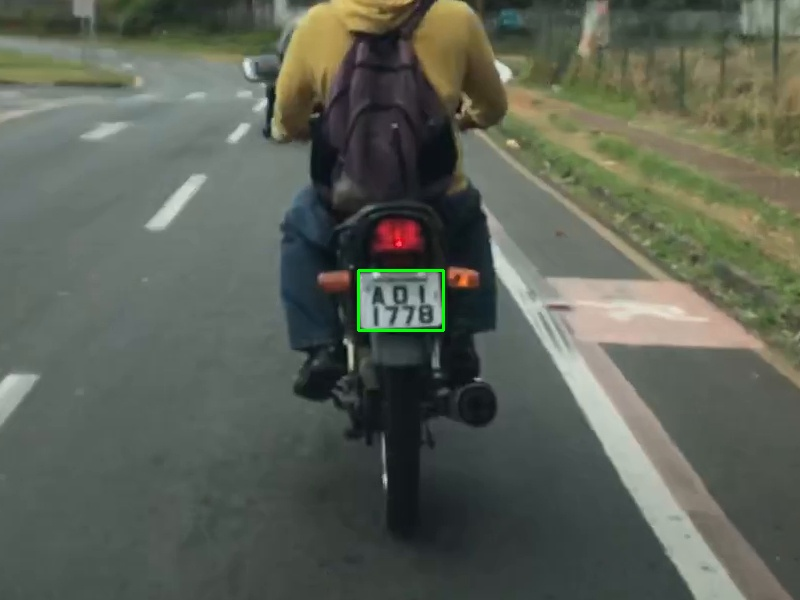placa: (358, 270, 443, 330)
